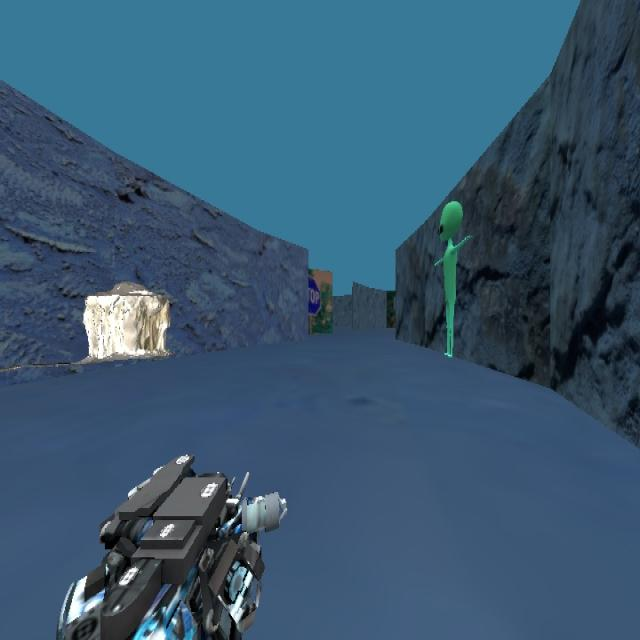Alien: (433, 199, 474, 357)
Ice: (80, 267, 192, 379)
Stop_Sign: (307, 275, 321, 316)
